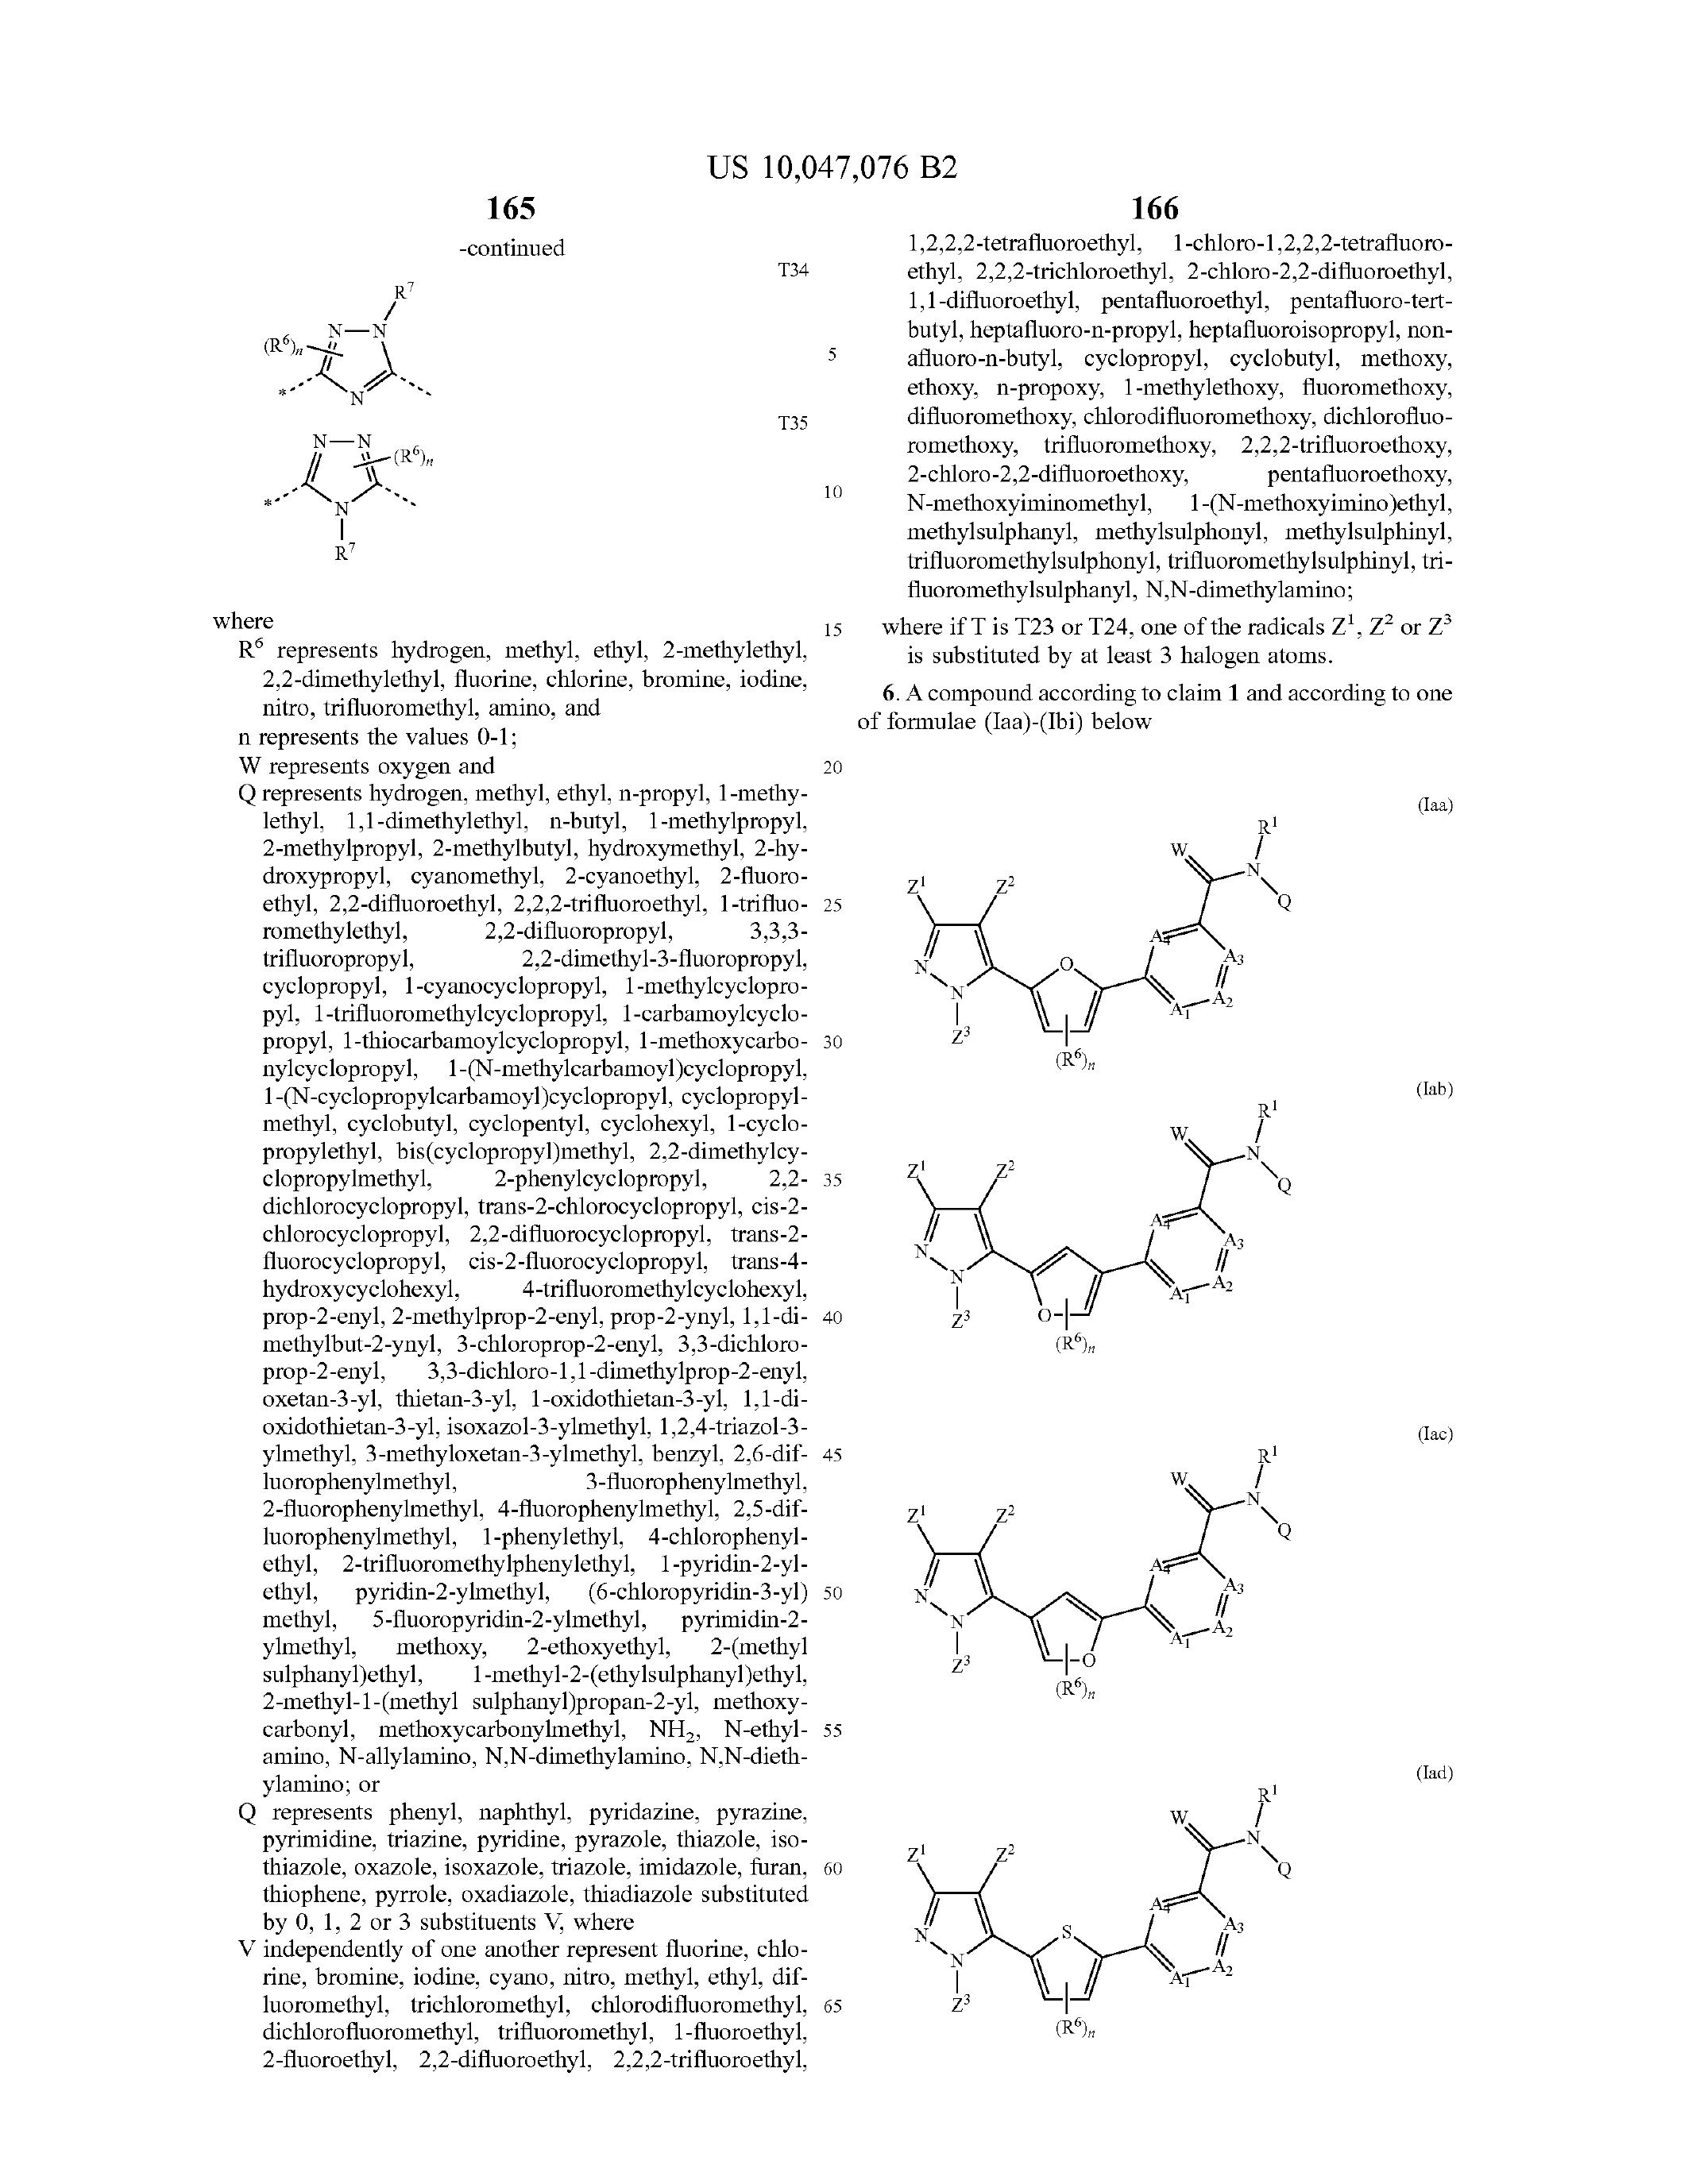intermediates: (209, 238, 454, 589)
substitutes: (860, 1764, 1369, 2067)
